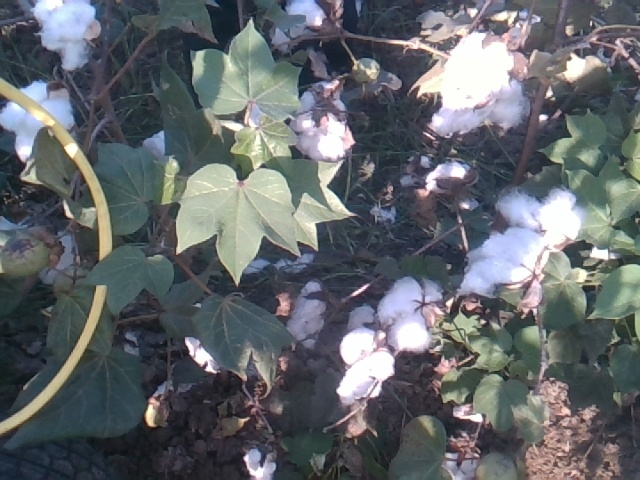cotton: (468, 183, 581, 307), (417, 31, 533, 133), (1, 74, 78, 181), (284, 76, 357, 162), (378, 269, 452, 353), (339, 304, 395, 404), (31, 1, 104, 73), (5, 215, 74, 284), (267, 3, 333, 58), (283, 275, 326, 351), (422, 160, 471, 189)
